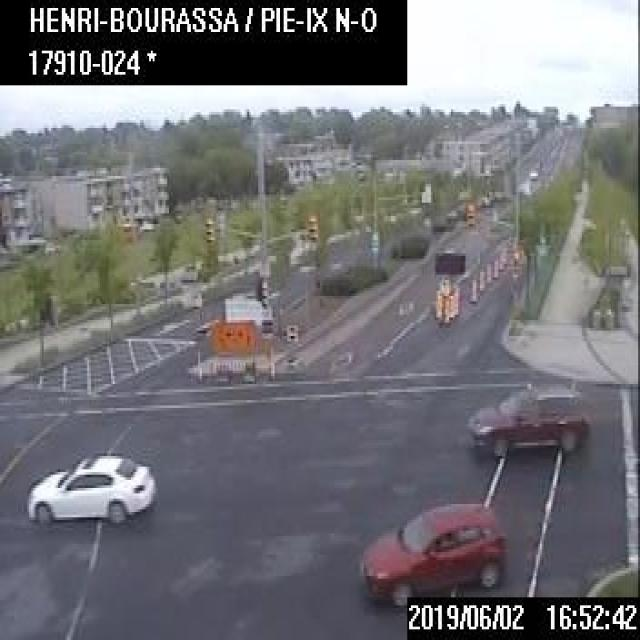construction: (193, 293, 276, 384), (431, 251, 464, 320), (284, 320, 298, 341), (476, 268, 484, 290), (469, 277, 476, 301), (434, 292, 440, 316), (442, 296, 447, 323), (452, 288, 457, 312), (484, 261, 490, 281), (448, 293, 453, 316), (492, 258, 497, 276)
vehicle: (358, 501, 507, 603), (26, 451, 154, 525), (464, 384, 587, 456)
